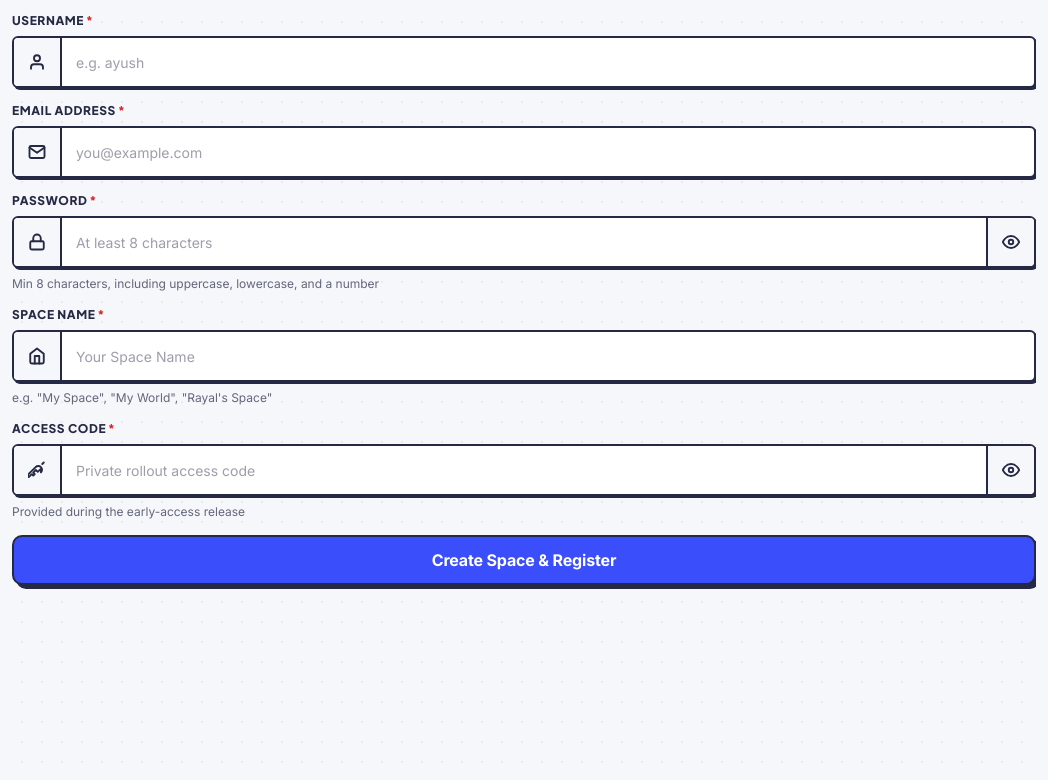
SignupForm Component › submits valid data to backend signup service
The image size is (1048, 780).
In the field labelled "Username*": (548, 62) 62,38 -> 1034,86, type "ayush_admin"
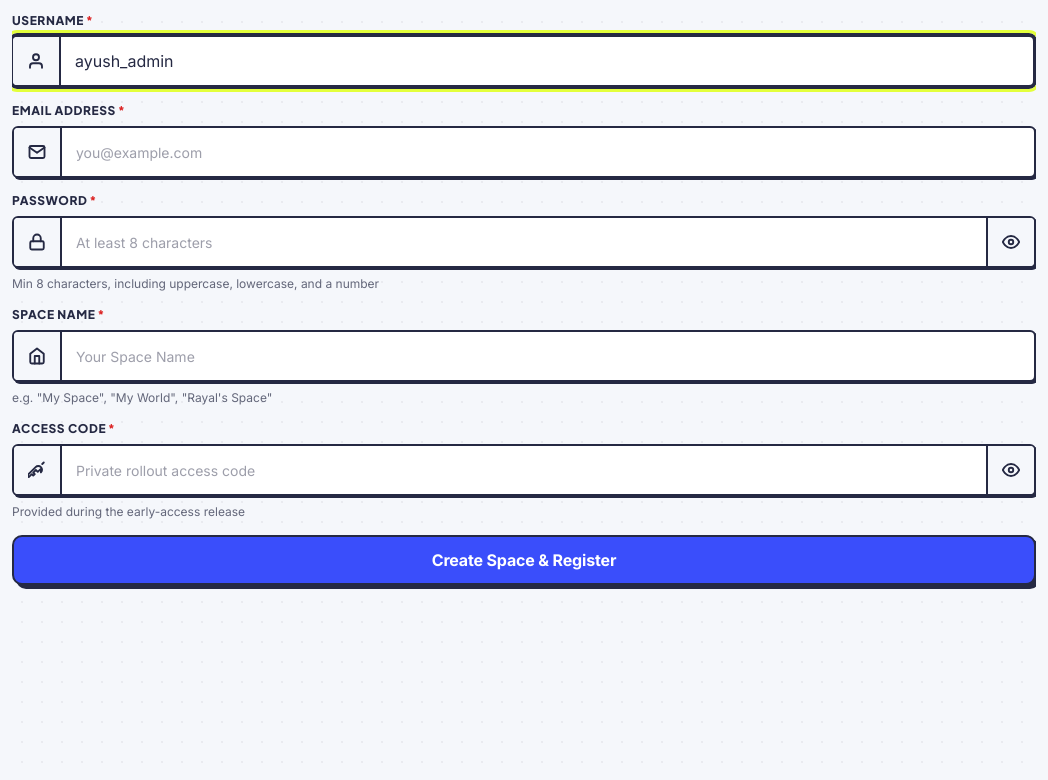
In the field labelled "Email Address*": (548, 152) 62,128 -> 1034,176, type "ayush@example.com"
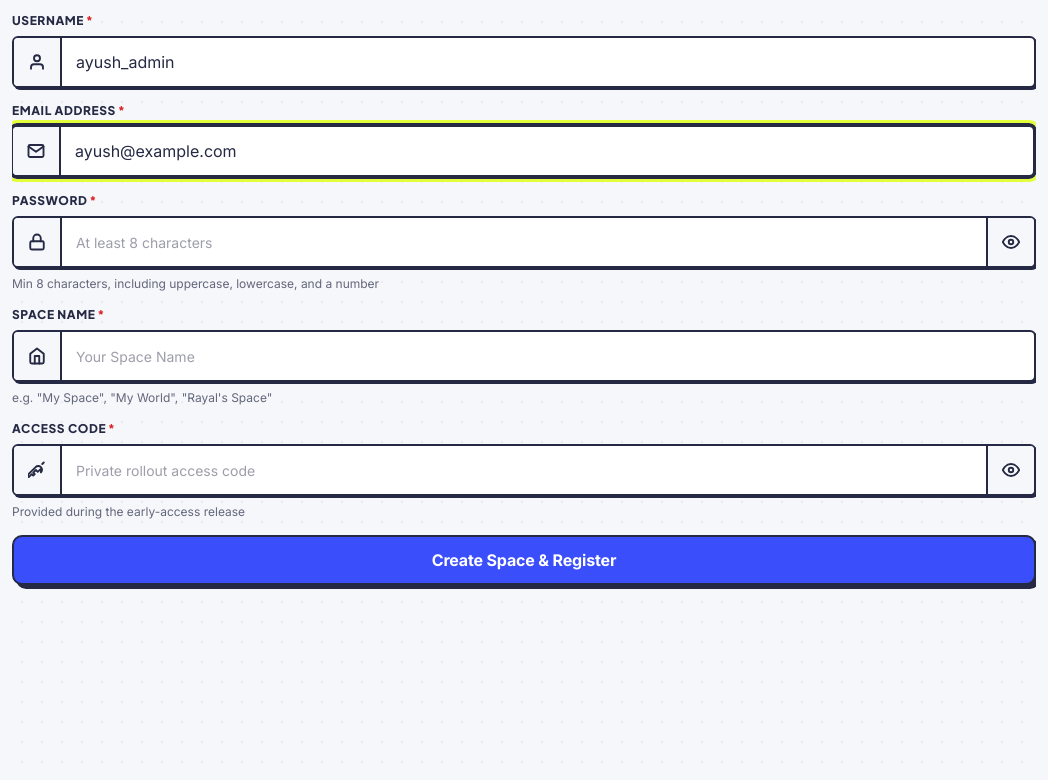
In the password field labelled "Password*": (548, 242) 62,218 -> 1034,266, type "StrongPass123!"
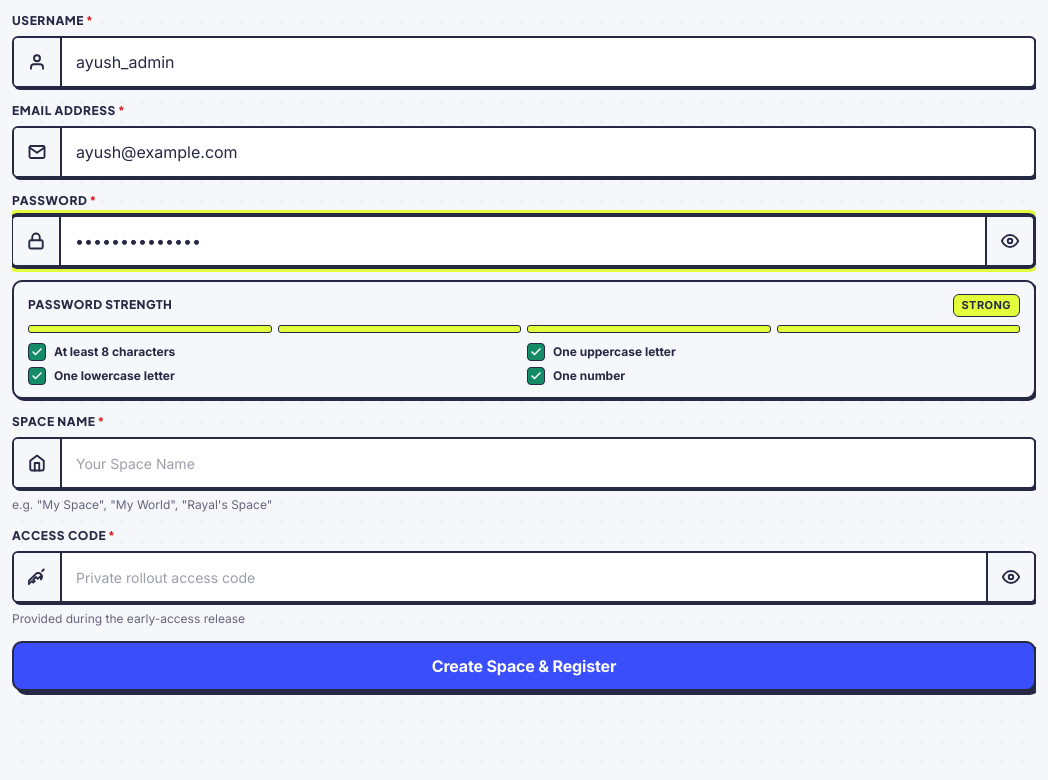
In the field labelled "Space Name*": (548, 462) 62,438 -> 1034,486, type "My Space"
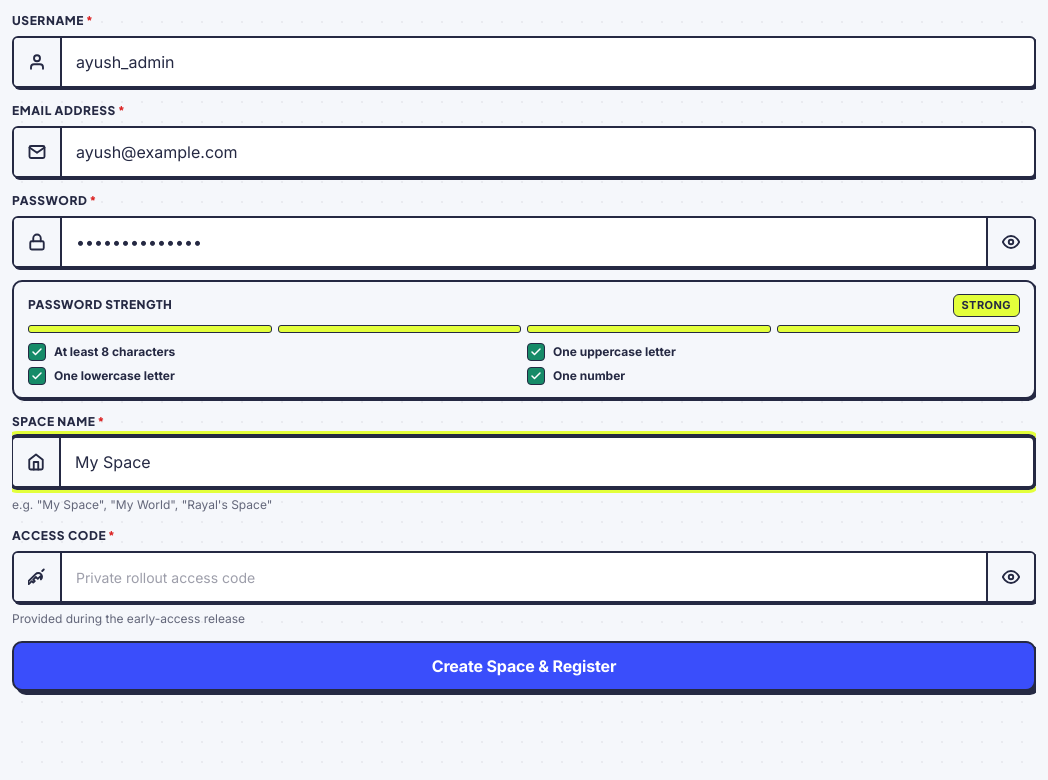
In the password field labelled "Access Code*": (548, 577) 62,553 -> 1034,601, type "MY_ACCESS_CODE"
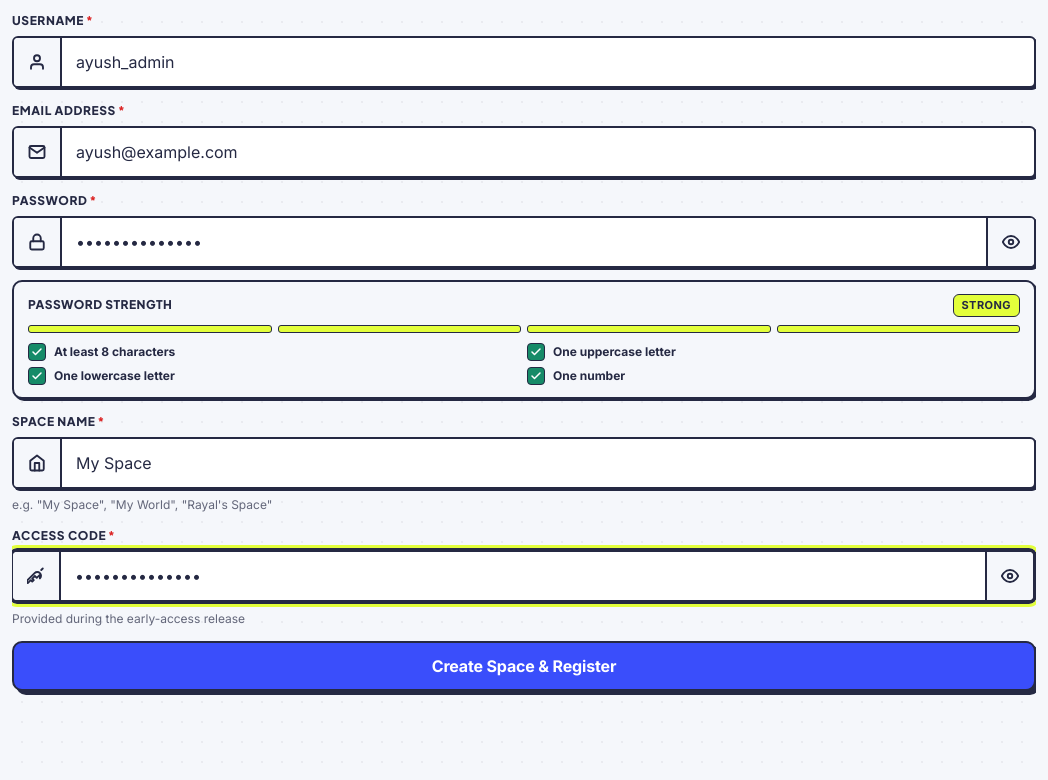
Click the button "Create Space & Register": (524, 666) 12,641 -> 1036,691
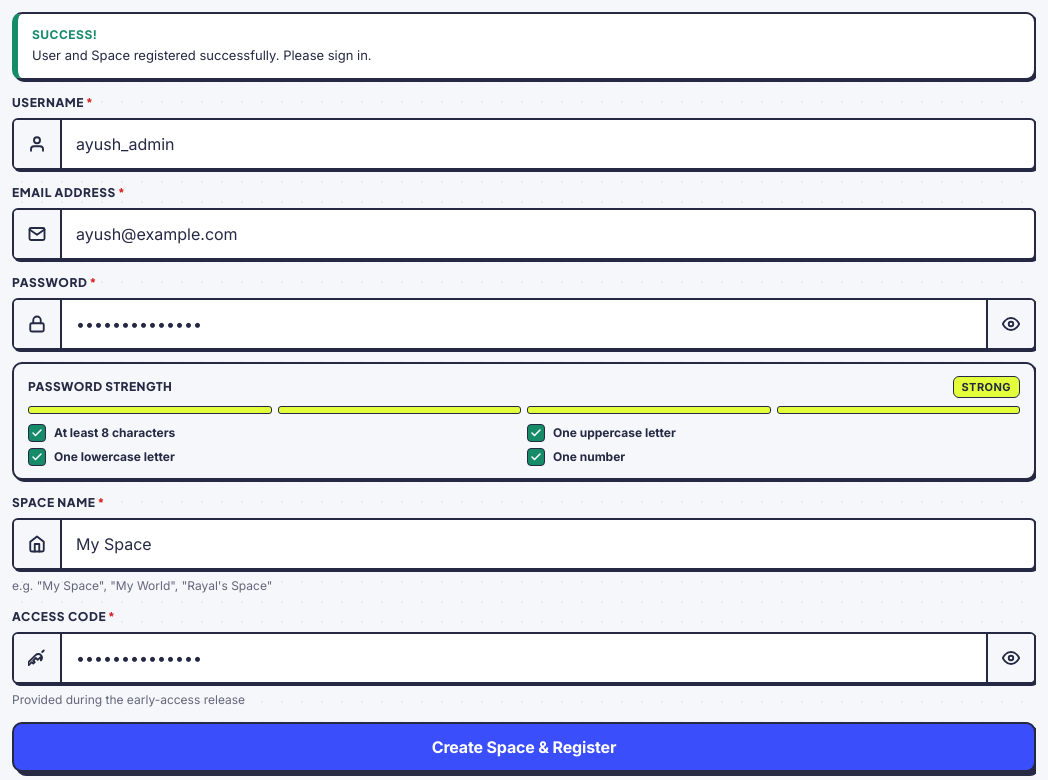
expect the text "User and Space registered successfully. Please sign in." is shown: met, box 32,47 -> 372,63
